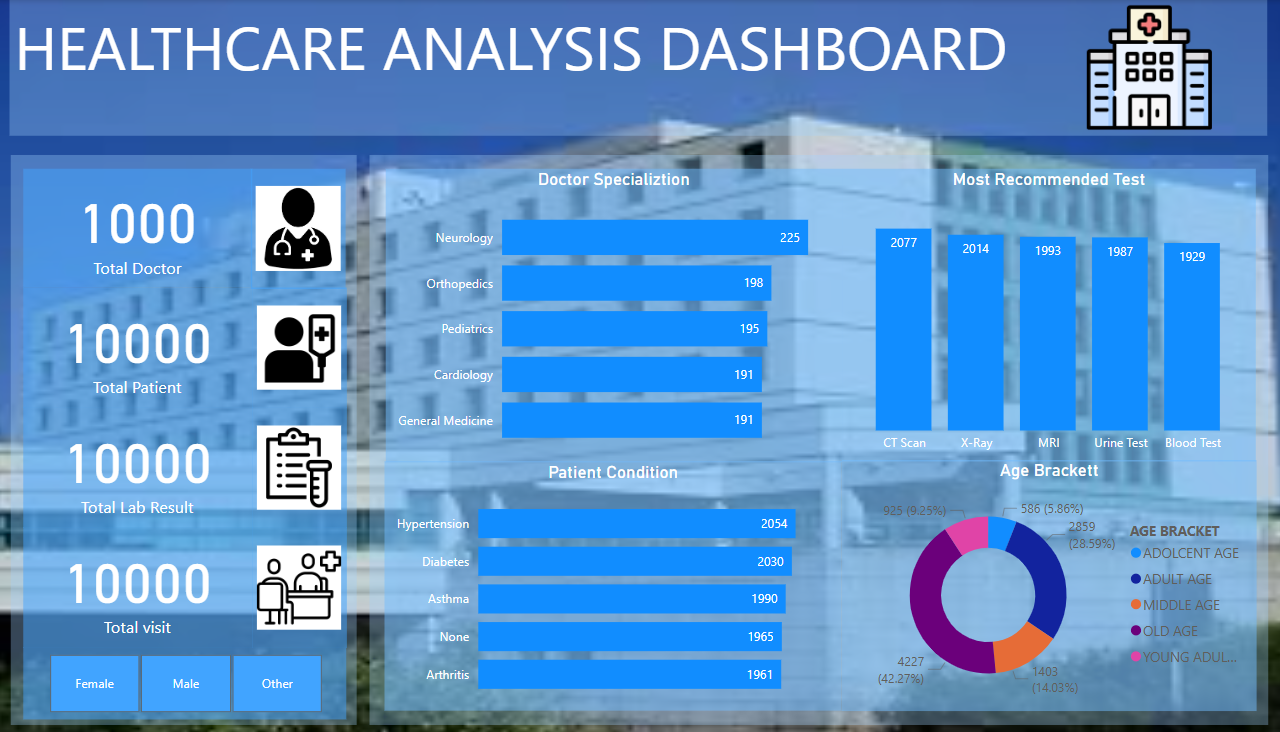

The dashboard page shown, as its layout file describes it:
{"tool":"powerbi","page":{"name":"Page 2","canvas":[1280,720],"ordinal":0},"visuals":[{"type":"textbox","box":[18.3,151.6,338.7,557.6],"z":0},{"type":"card","fields":{"Values":["CountNonNull(Doctor.Doctor ID)"]},"box":[30,165,223.8,116.2],"z":1000},{"type":"image","box":[253.1,165.1,92.9,117.4],"z":2000},{"type":"card","fields":{"Values":["CountNonNull(Patient.Patient ID)"]},"box":[30,281.2,223.8,117.5],"z":3000},{"type":"image","box":[253.8,281.2,92.5,117.5],"z":4000},{"type":"card","fields":{"Values":["CountNonNull(Lab result.Lab Result ID)"]},"box":[30,398.8,223.8,117.5],"z":5000},{"type":"card","fields":{"Values":["CountNonNull(Visit.Visit ID)"]},"box":[30,516.2,223.8,117.5],"z":6000},{"type":"image","box":[253.8,398.8,92.5,117.5],"z":7000},{"type":"image","box":[253.8,516.2,92.5,117.5],"z":8000},{"type":"textbox","box":[369.3,151.6,879.2,557.6],"z":9000},{"type":"barChart","title":"Doctor Specializtion","fields":{"Category":["Doctor.Specialization"],"Y":["CountNonNull(Doctor.Doctor ID)"]},"box":[385,165,446.2,287.5],"z":10000},{"type":"barChart","title":"Patient Condition","fields":{"Category":["Patient.Chronic Conditions"],"Y":["CountNonNull(Patient.Patient ID)"]},"box":[383.8,451.2,447.5,243.8],"z":11000},{"type":"slicer","fields":{"Values":["Patient.Gender"]},"box":[30,633.8,316.2,70],"z":12000},{"type":"textbox","box":[17.5,0,1230,132.5],"z":13000},{"type":"image","box":[1017.5,0,230,132.5],"z":14000},{"type":"columnChart","title":"Most Recommended Test","fields":{"Category":["Lab result.Test Name"],"Y":["CountNonNull(Lab result.Lab Result ID)"]},"box":[831.2,165,405,286.2],"z":15000},{"type":"donutChart","title":"Age Brackett","fields":{"Category":["Visit.AGE BRACKET"],"Y":["CountNonNull(Visit.Patient ID)"]},"box":[831,450.1,405.4,245.3],"z":16000}]}

Visuals, with their boxes in screenshot pixels (x1, y1, x2, y2), scaled from the page's 1280x720 canvas onto the 1280x732 screenshot:
textbox: l=18, t=154, r=357, b=721
card - CountNonNull(Doctor.Doctor ID): l=30, t=168, r=254, b=286
image: l=253, t=168, r=346, b=287
card - CountNonNull(Patient.Patient ID): l=30, t=286, r=254, b=405
image: l=254, t=286, r=346, b=405
card - CountNonNull(Lab result.Lab Result ID): l=30, t=405, r=254, b=525
card - CountNonNull(Visit.Visit ID): l=30, t=525, r=254, b=644
image: l=254, t=405, r=346, b=525
image: l=254, t=525, r=346, b=644
textbox: l=369, t=154, r=1248, b=721
"Doctor Specializtion" barChart: l=385, t=168, r=831, b=460
"Patient Condition" barChart: l=384, t=459, r=831, b=707
slicer - Patient.Gender: l=30, t=644, r=346, b=716
textbox: l=18, t=0, r=1248, b=135
image: l=1018, t=0, r=1248, b=135
"Most Recommended Test" columnChart: l=831, t=168, r=1236, b=459
"Age Brackett" donutChart: l=831, t=458, r=1236, b=707
